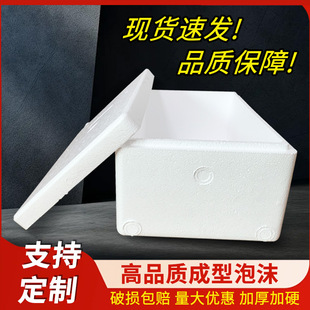泡沫箱: (14, 69, 296, 241)
